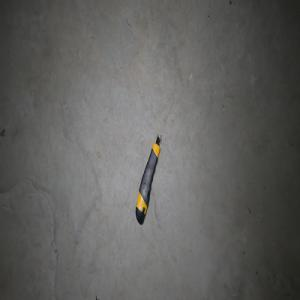Cutter: (134, 135, 161, 225)
